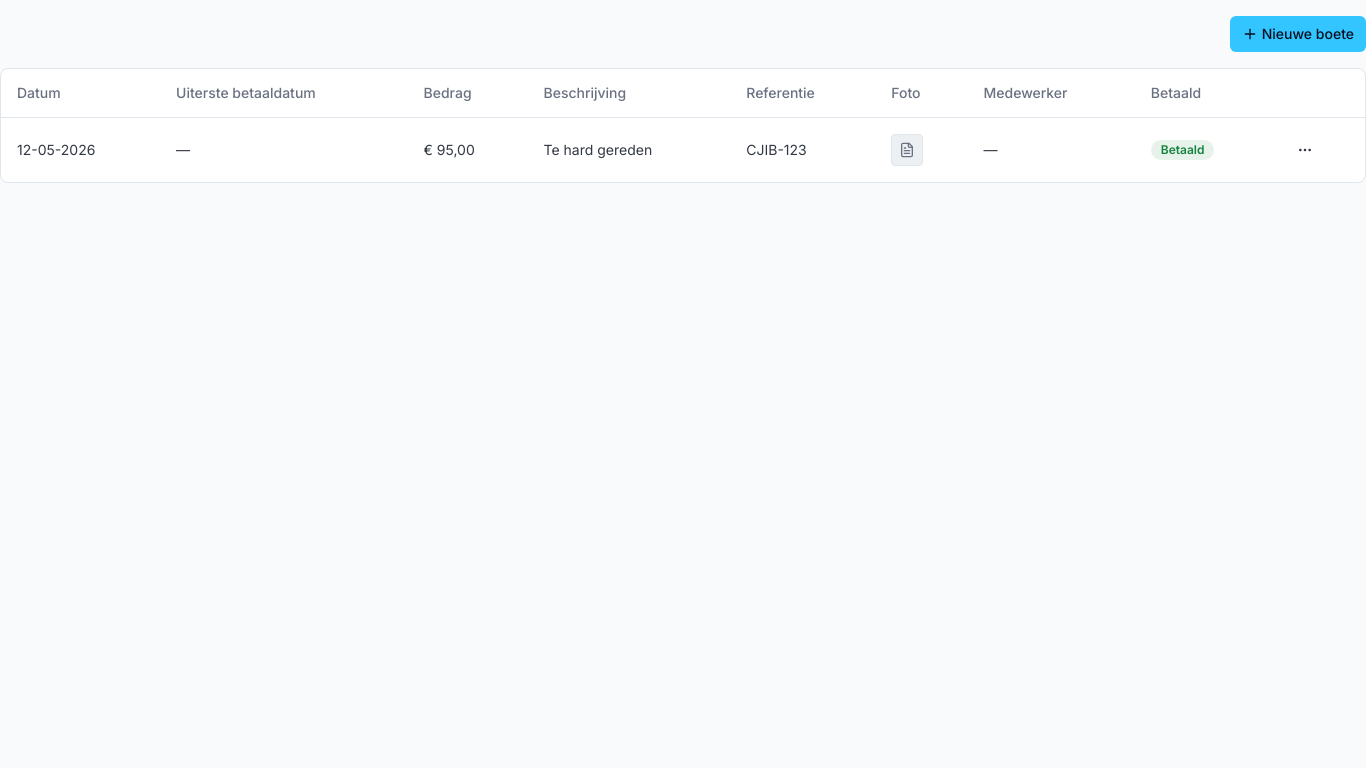
Test: VehicleFinesTab: betaalstatus gedraagt zich hetzelfde als het overzicht › wist de betaaldatum wanneer een betaalde boete terug naar niet betaald gaat
Later steps or results of the test are not shown.
Click the text "Betaald".
click(1183, 150)  # box [1151,140,1214,160]
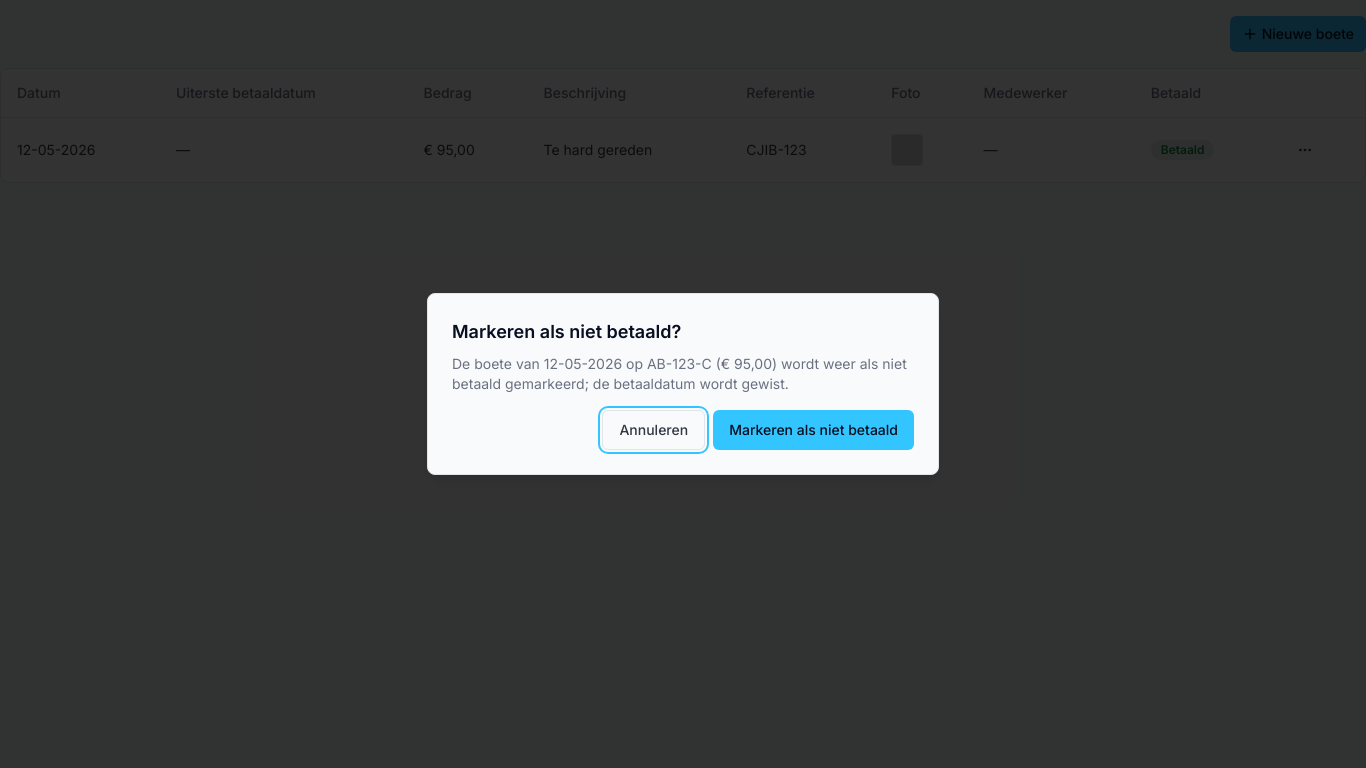
expect the heading "Markeren als niet betaald?" is shown: met, box [452,321,681,342]
expect the text "de betaaldatum wordt gewist" is shown: met, box [452,355,907,392]
